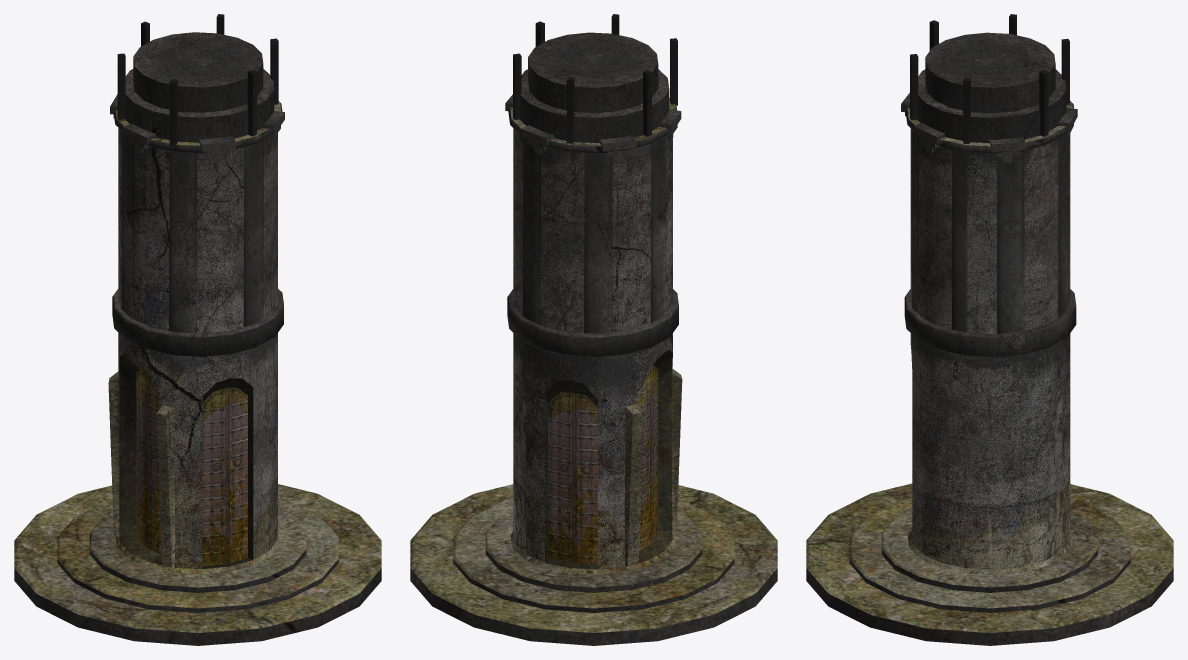
The model's file is Bash.FBX.
3 renders of one model, left to right at view 1: azimuth 30°, elevation 25°; view 2: azimuth 150°, elevation 25°; view 3: azimuth 270°, elevation 25°, orthographic.
Visible parts, largest first — view 1: Cylinder001; view 2: Cylinder001; view 3: Cylinder001.
Part boxes in pixels (<box>): Cylinder001: <box>14,14,381,645</box>; Cylinder001: <box>410,14,777,645</box>; Cylinder001: <box>806,14,1173,645</box>.
Size of the model in its own units: 116 by 178 by 114.
